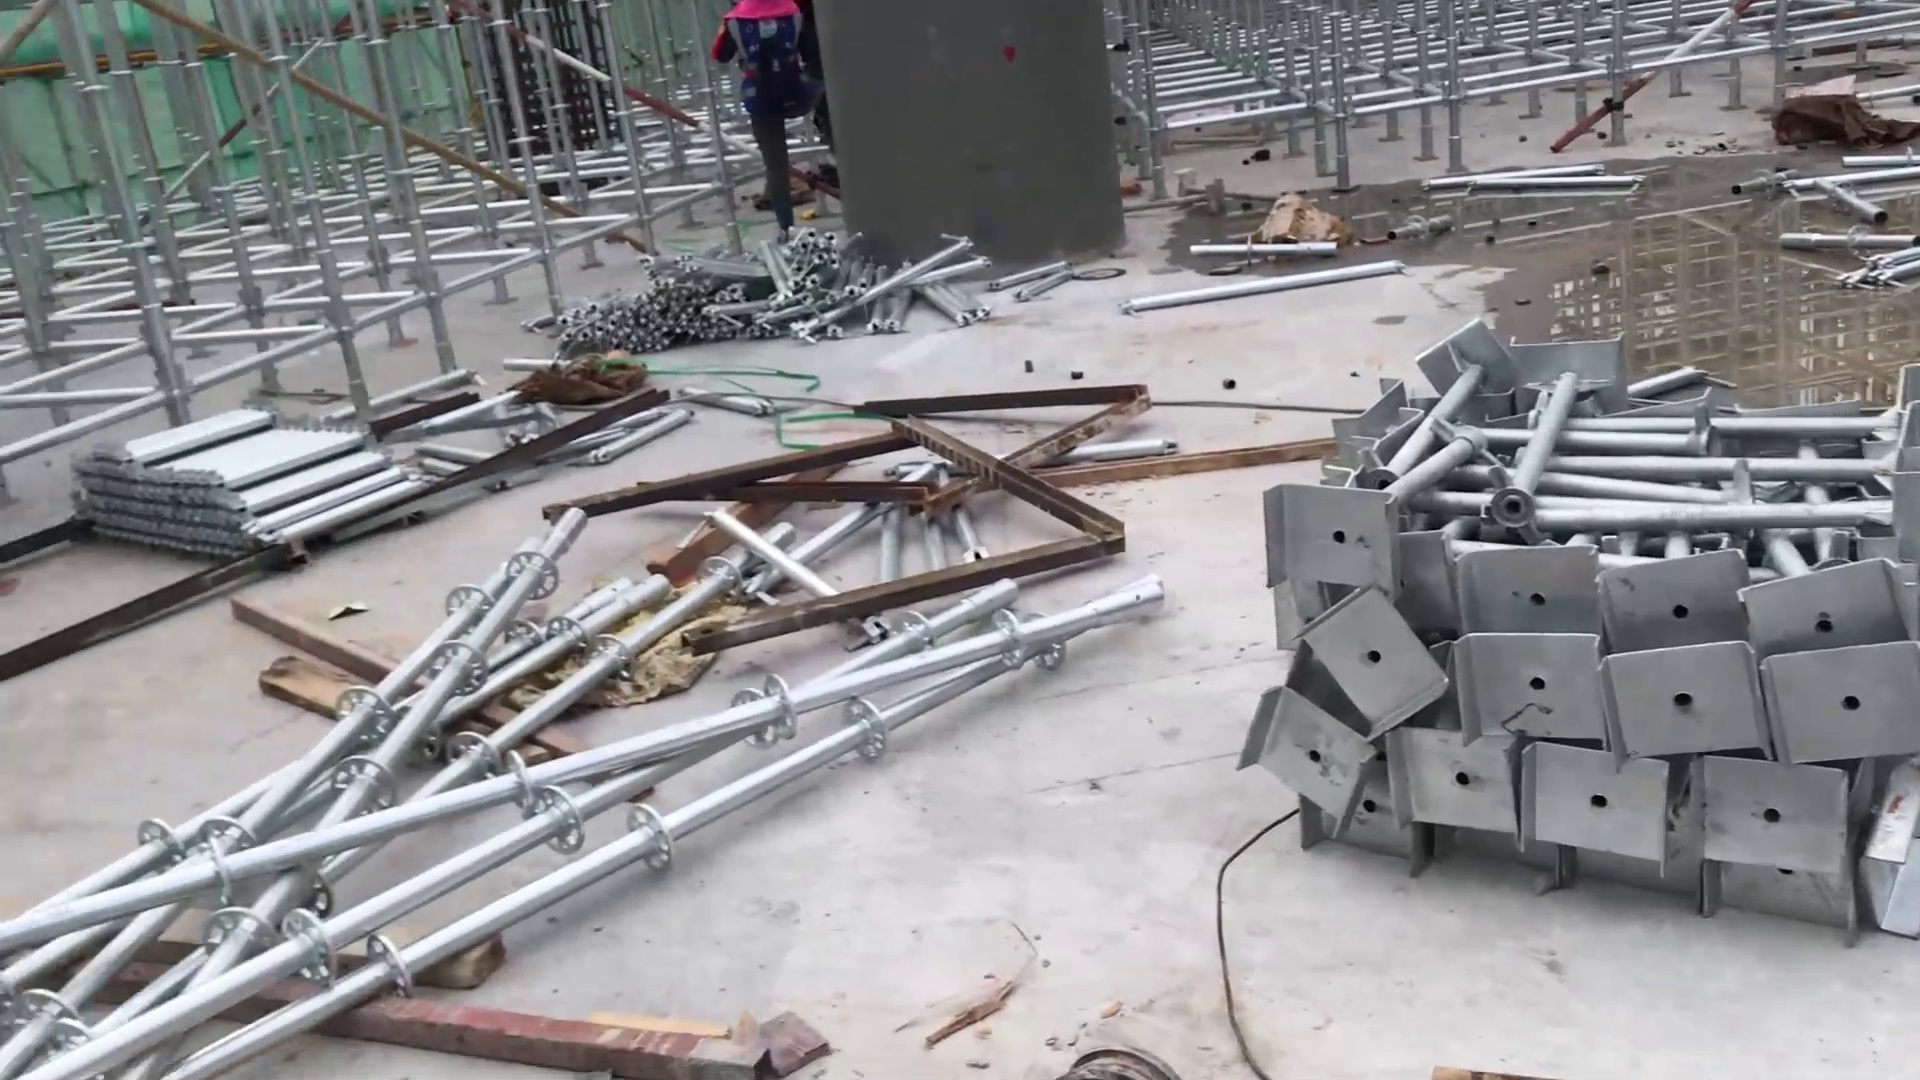person: (704, 1, 855, 238)
scaffold: (1240, 312, 1920, 962), (58, 392, 425, 571)
vest: (722, 7, 821, 120)
